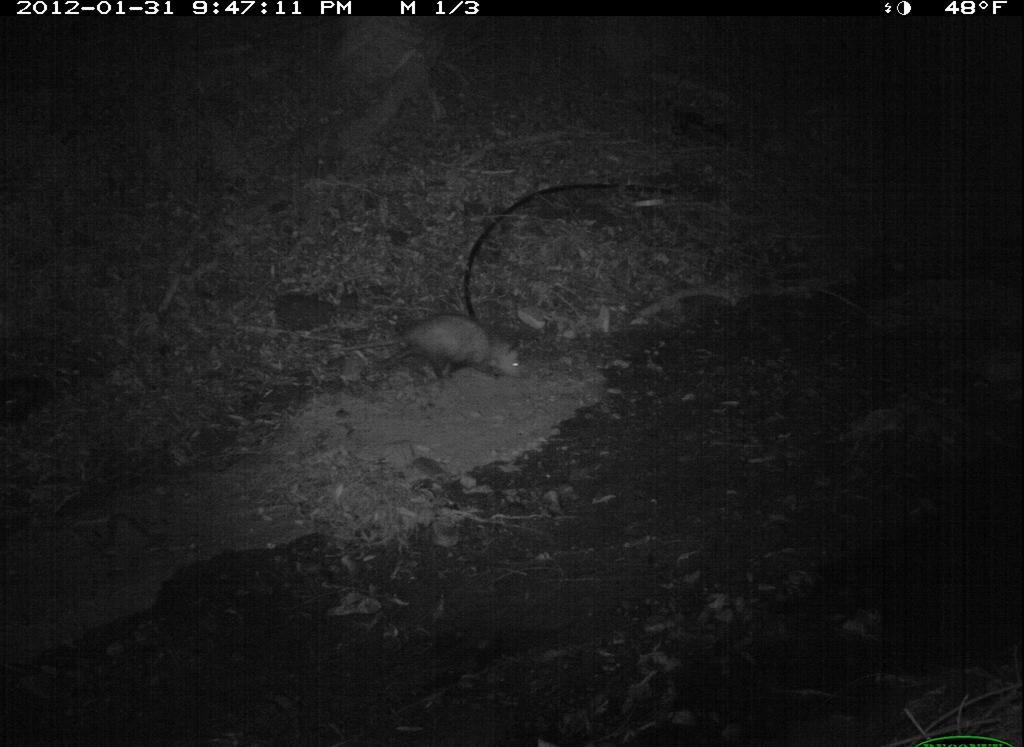opossum: (347, 312, 534, 393)
